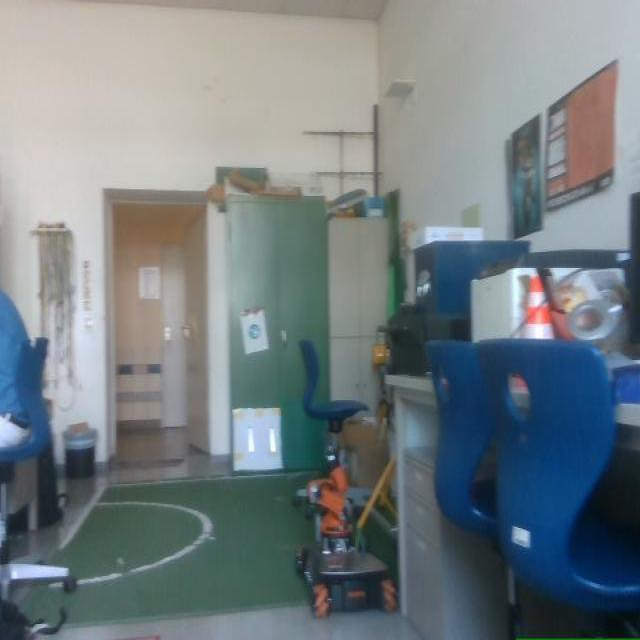humans: (0, 289, 29, 445)
objects: (476, 339, 639, 636), (426, 340, 498, 548), (0, 472, 75, 616), (299, 340, 367, 435), (0, 337, 50, 464), (506, 568, 520, 639), (32, 608, 66, 632)
